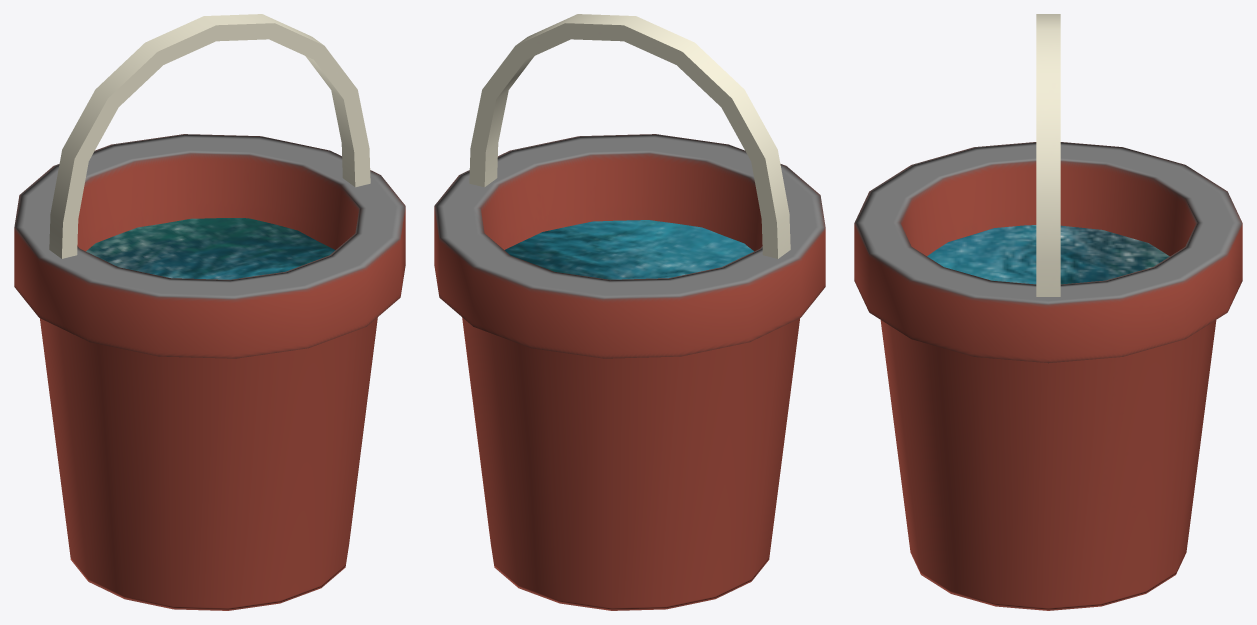
Rendered from mesh014_Pail.fbx.
3 views of the same model, side by side, from view 1: azimuth 30°, elevation 25°; view 2: azimuth 150°, elevation 25°; view 3: azimuth 270°, elevation 25° (orthographic).
Visible parts, largest first — view 1: pCylinder3; view 2: pCylinder3; view 3: pCylinder3.
Boxes of the visible parts, x1=… form: pCylinder3: x1=14, y1=14, x2=405, y2=610; pCylinder3: x1=434, y1=14, x2=825, y2=610; pCylinder3: x1=854, y1=14, x2=1242, y2=610.
Size of the model in its own units: 2.81 by 4.18 by 2.81.
